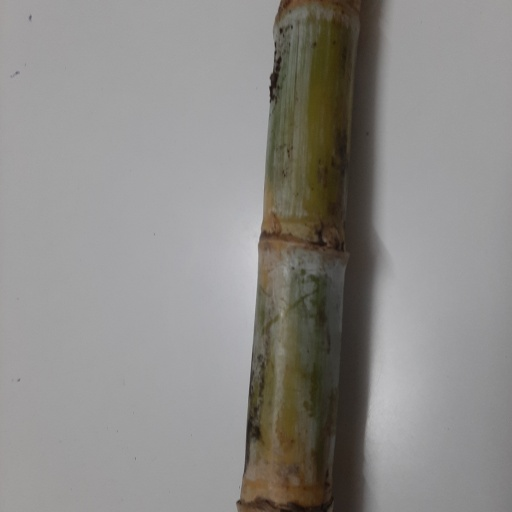Bud: (318, 226, 340, 250)
